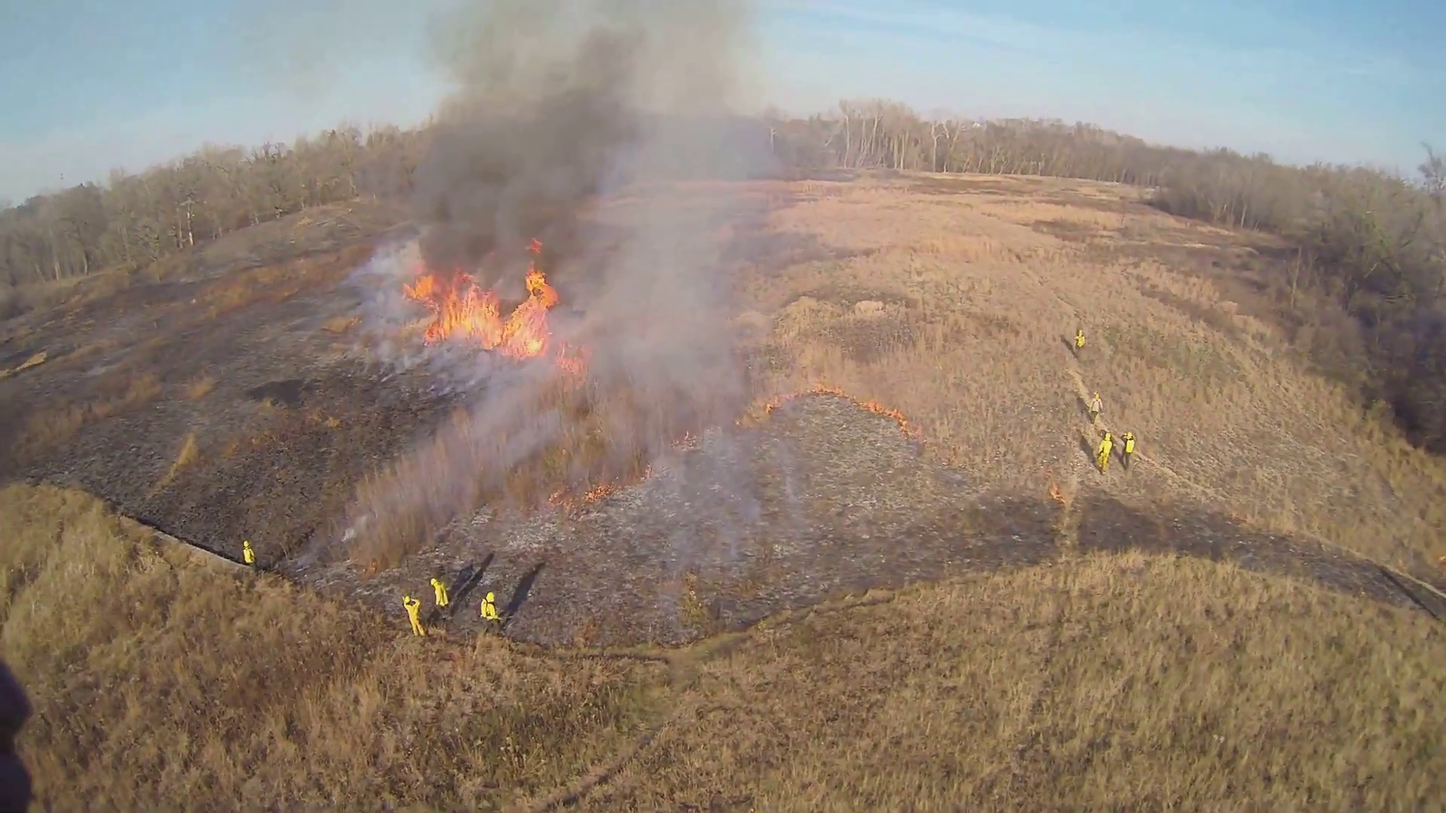forest_fire: (403, 262, 557, 358), (761, 384, 922, 441)
